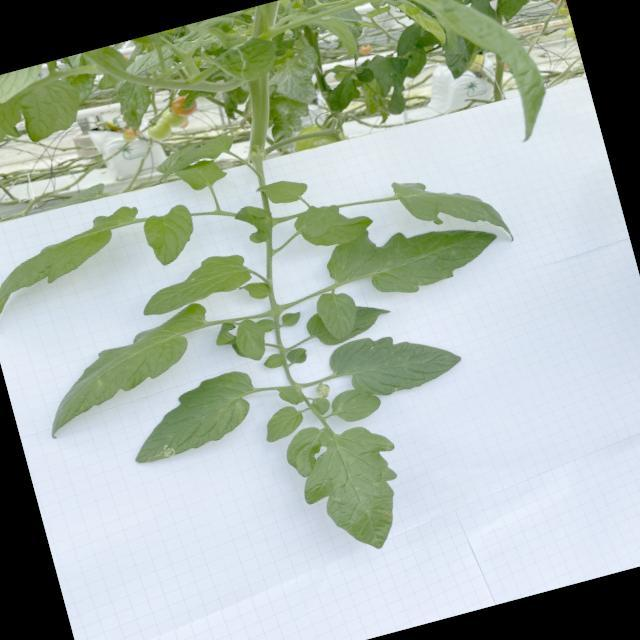Tomato healthy leaf: (374, 0, 557, 167), (0, 201, 160, 335), (390, 154, 516, 268), (132, 247, 255, 320), (304, 293, 396, 351), (262, 42, 329, 112), (150, 132, 240, 184), (140, 202, 202, 268), (312, 285, 363, 343), (173, 154, 230, 196), (254, 172, 311, 210), (230, 314, 271, 364), (296, 198, 344, 240), (259, 402, 308, 443), (487, 0, 567, 24), (237, 278, 273, 304), (277, 384, 302, 408), (284, 344, 310, 366), (260, 350, 286, 370), (280, 308, 304, 328)
Tomato target spot leaf: (116, 361, 266, 468), (313, 380, 333, 400)
